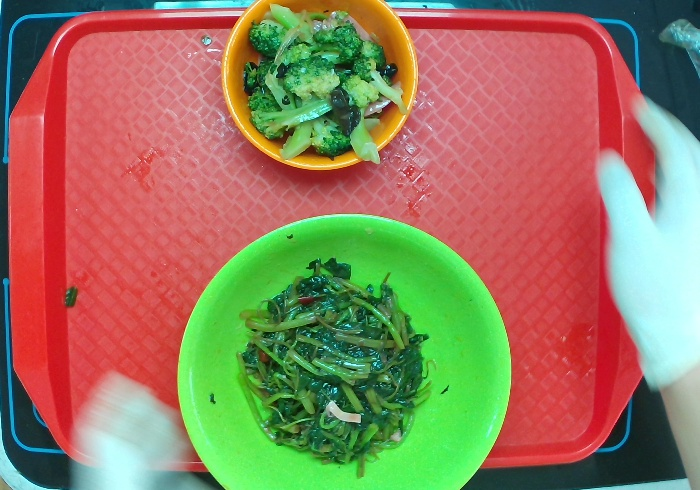YKMZ-Ju_Se_Yuan_Wan: (209, 1, 424, 177)
YKMZ-Lv_Se_Tang_Wan: (167, 210, 514, 490)
